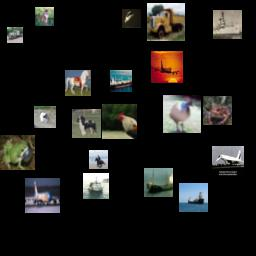airplane: (25, 178, 60, 213), (212, 146, 244, 178), (151, 51, 183, 83)
bird: (163, 95, 201, 133), (102, 104, 137, 139), (122, 9, 141, 28)
cat: (34, 106, 56, 128), (35, 7, 54, 26)
dog: (72, 109, 101, 138)
frog: (0, 135, 35, 170), (203, 96, 232, 125)
ship: (179, 183, 208, 212), (144, 168, 173, 197), (213, 10, 242, 39), (83, 173, 109, 199), (110, 70, 132, 92)
truck: (147, 3, 185, 41), (7, 27, 23, 43)
